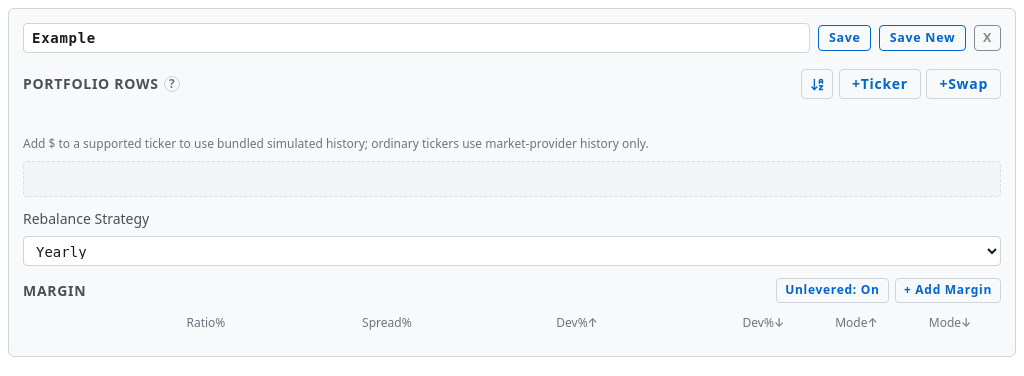
portfolio row editor › adds an empty swap row without opening the swap dialog
Click the button "+Swap": [964, 84] box [926,69,1001,99]
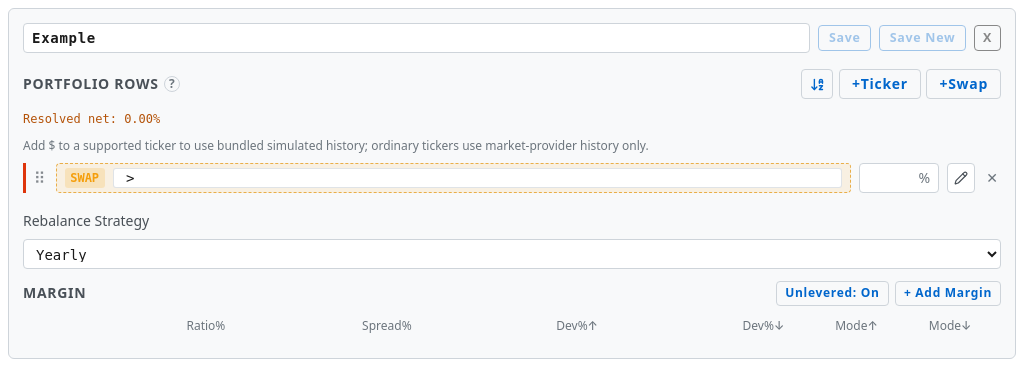
Expected: the field named "Swap structure" holds " > ", [113,168,842,188]
